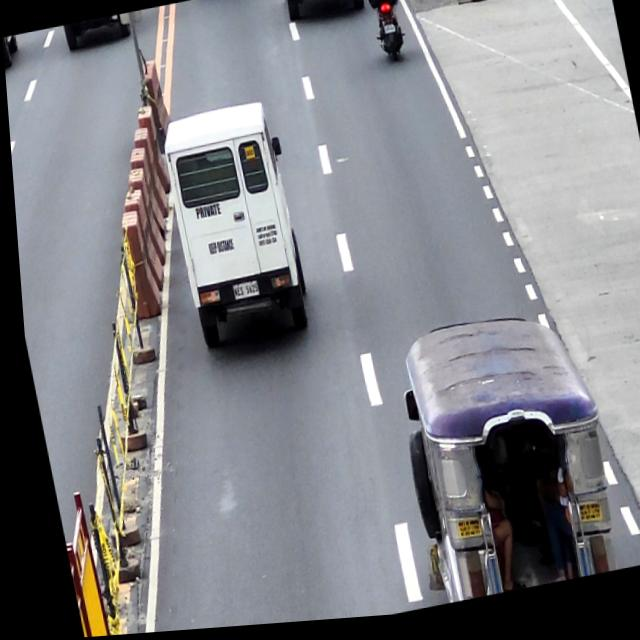Car: (154, 97, 313, 355)
Jeep: (375, 304, 622, 613)
License-Plate: (226, 283, 254, 303), (381, 29, 395, 39)
Motorcycle: (359, 0, 409, 72)
